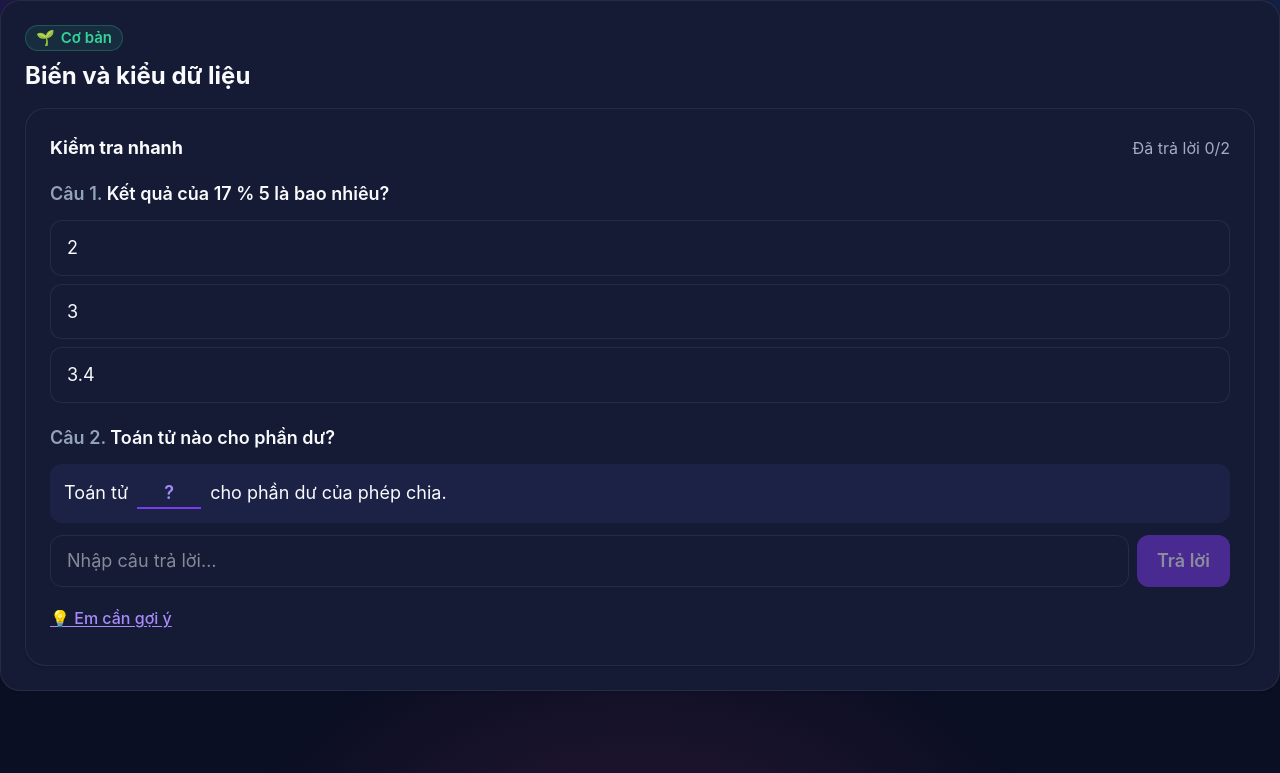
Test: Bài trắc nghiệm › trả lời sai thì nói "Chưa đúng rồi" — TUYỆT ĐỐI không dùng chữ "SAI" hay màu đỏ
The width and height of the screenshot is (1280, 773).
Click the button "3.4".
click(81, 375)  # box [50,347,1230,403]
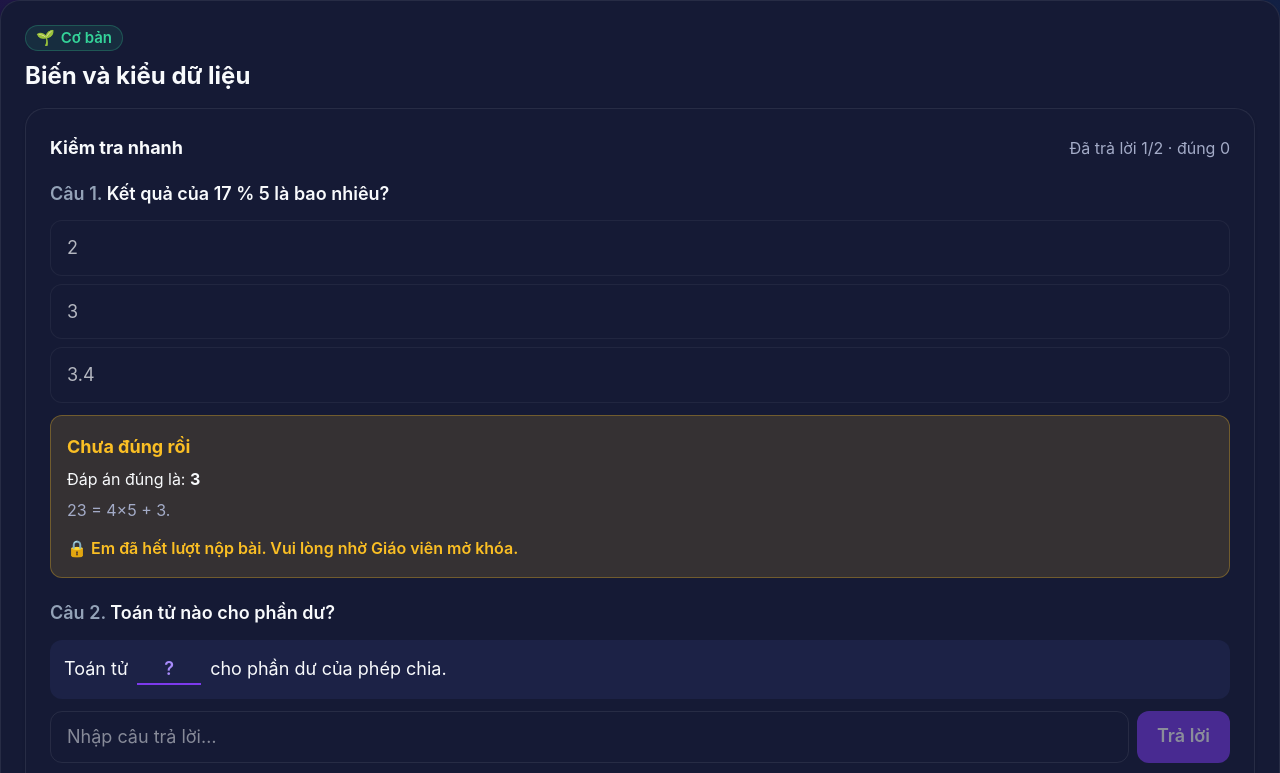
Expected: the message shows "Chưa đúng rồi", [67,436,190,457]
Expected: the message shows "23 = 4×5 + 3.", [67,500,170,520]
Expected: the message shows "Đáp án đúng là: 3", [50,415,1230,578]
